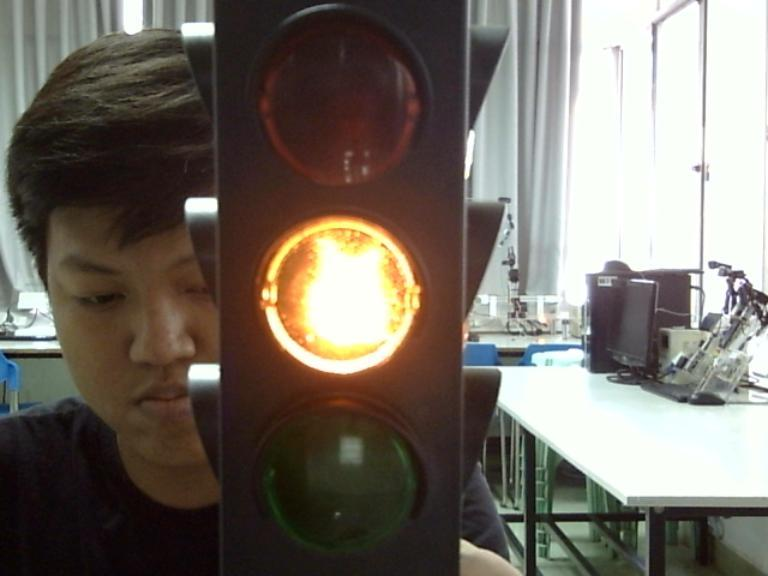yellow: (234, 204, 436, 383)
